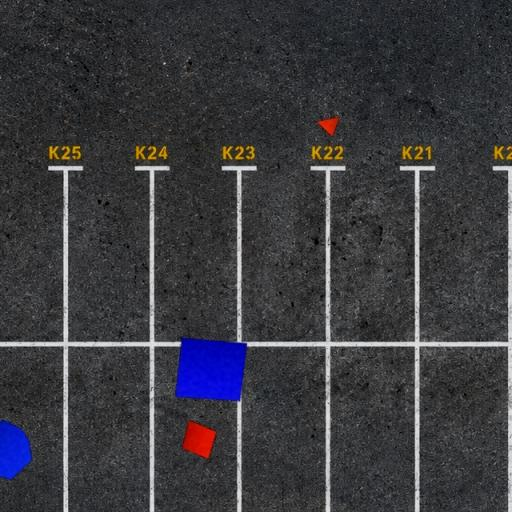BLUE_SQUARE: (175, 337, 248, 402)
RED_SQUARE: (182, 419, 218, 460)
